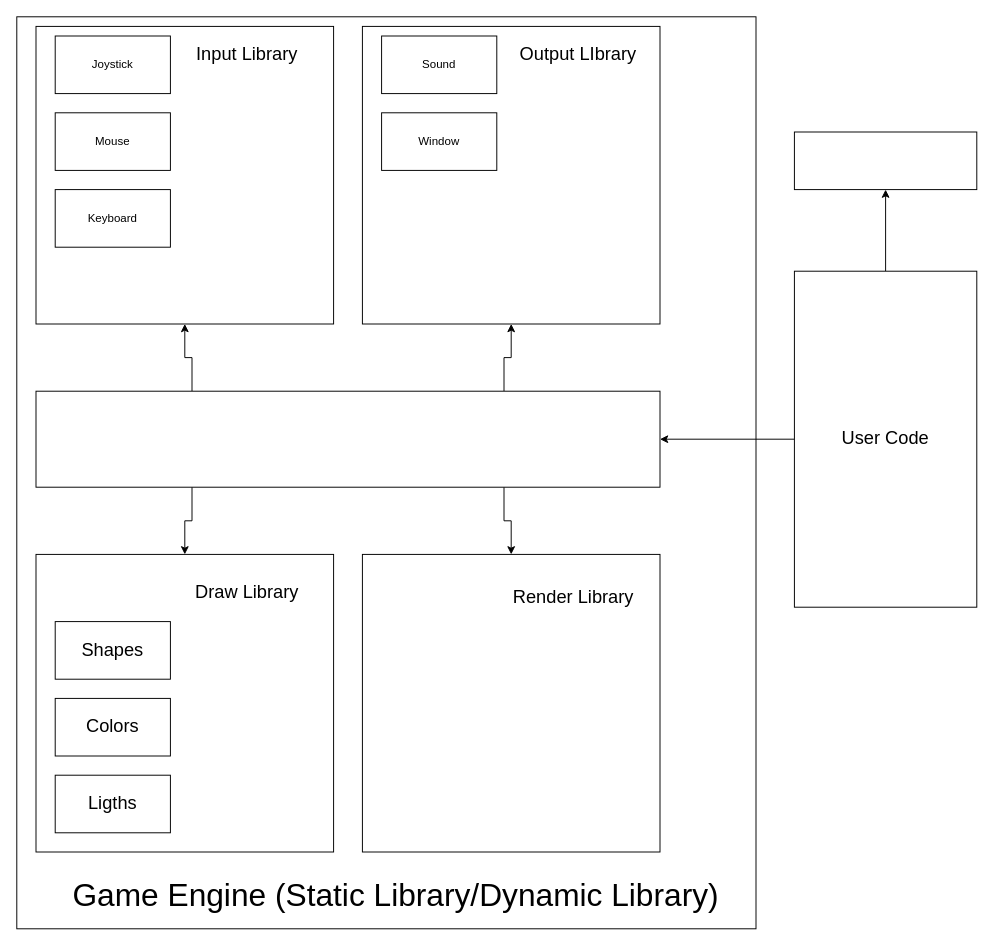
Image size: 994x946. Some labels were removed from this diagram. Here are the shapes that lost their labels. From the top down, the centre of each, then its label:
At [885,160]: "User Headers".
At [347,438]: "Main File (Handling Everything)".
